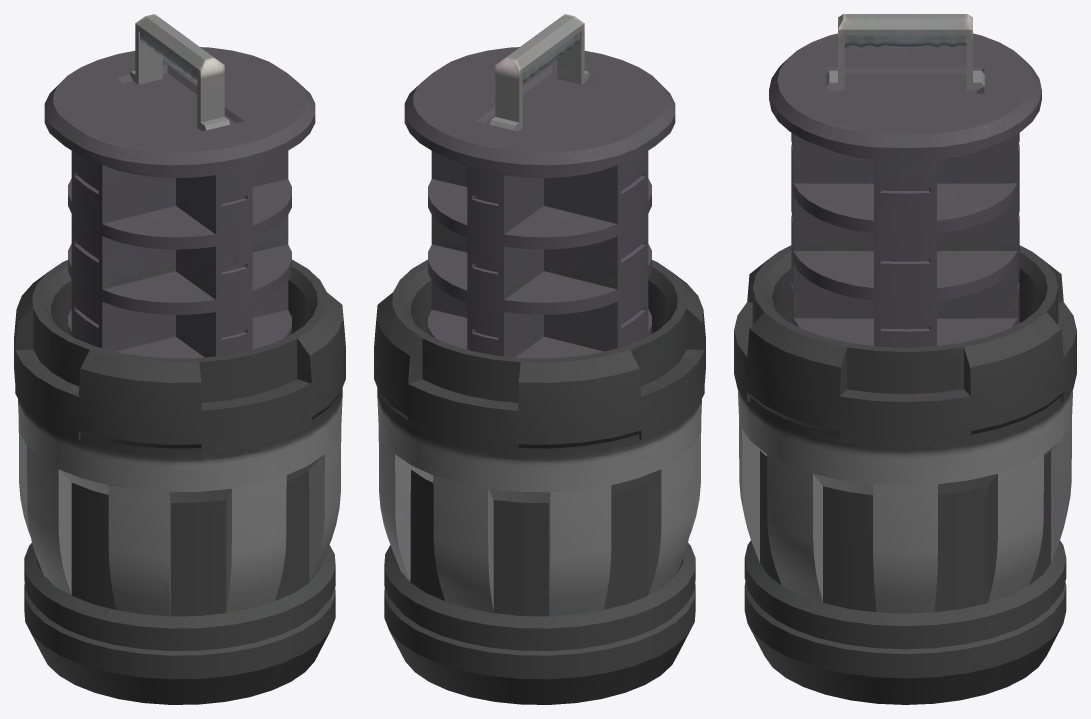
File: Barrel2 Open.glb
3 views of the same model, side by side, from view 1: azimuth 30°, elevation 25°; view 2: azimuth 150°, elevation 25°; view 3: azimuth 270°, elevation 25° (orthographic). The views are drawn at different scales.
Parts seen in each view (by area): view 1: Prop_Barrel2_Open; view 2: Prop_Barrel2_Open; view 3: Prop_Barrel2_Open.
Boxes of the visible parts, x1,y1,x2,y2 form: Prop_Barrel2_Open: [14, 14, 345, 704]; Prop_Barrel2_Open: [374, 14, 705, 704]; Prop_Barrel2_Open: [734, 14, 1076, 704].
Bounding box in the file's own units: 0.5422 × 1.1 × 0.5422.
Materials: 1 (1 with a texture image).
